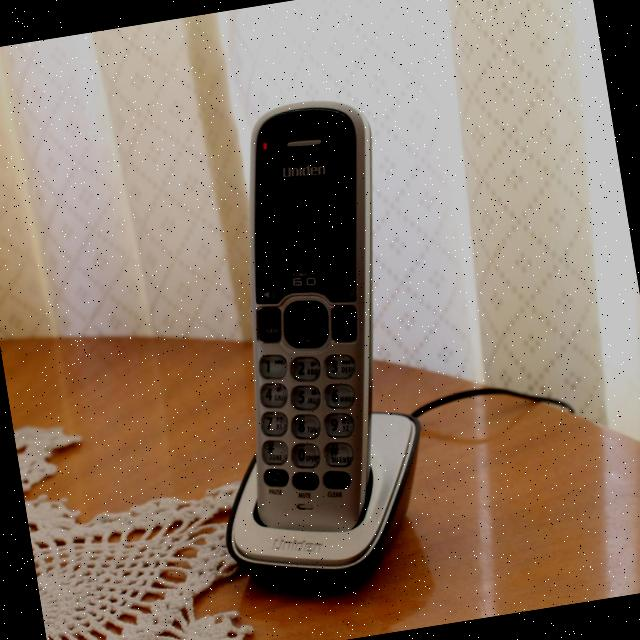Phone: (148, 76, 453, 608)
